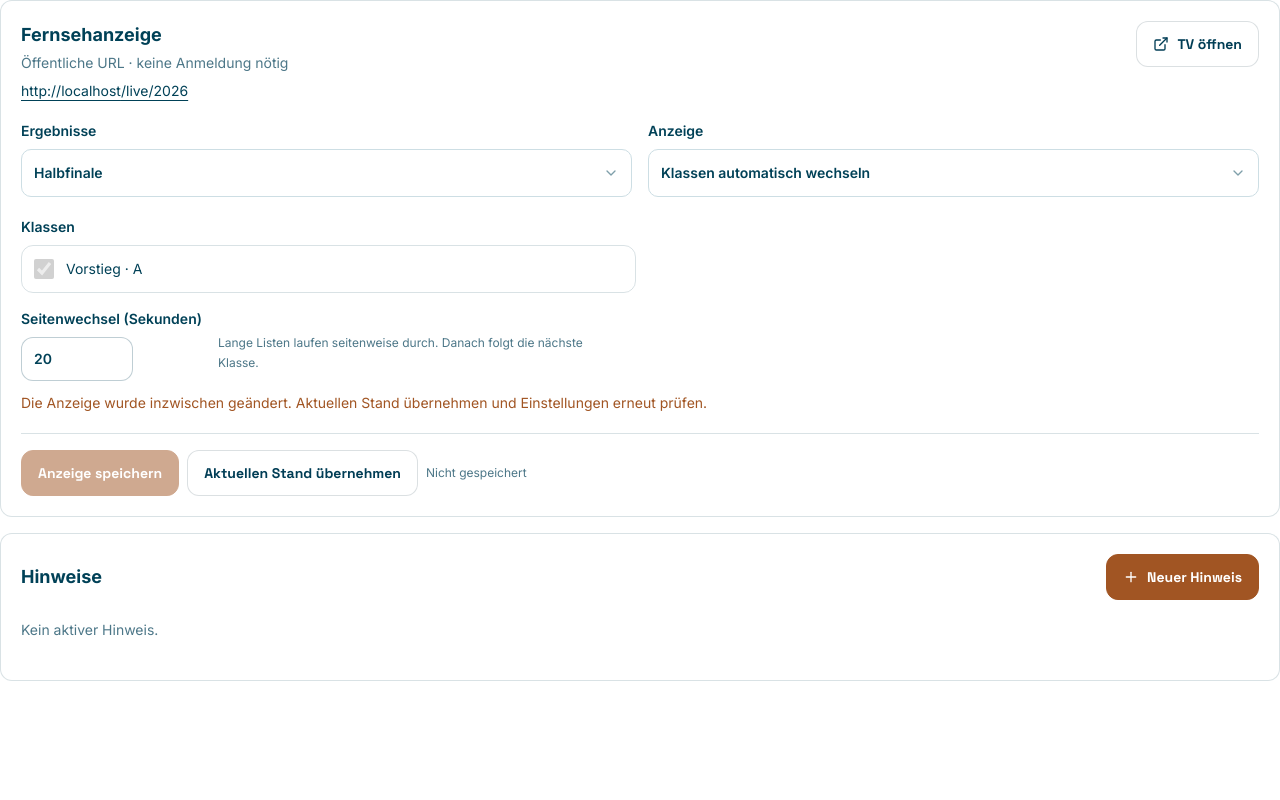
display and notices › retains edited settings during polling, detects a changed saved configuration and lets it be adopted
Earlier steps of the test are not shown.
Later steps or results of the test are not shown.
Expected: the number field labelled "Seitenwechsel (Sekunden)" holds "20", top-left (21, 337), bottom-right (133, 381)
Expected: the button "Anzeige speichern" is disabled, top-left (21, 450), bottom-right (179, 496)
Click the button "Aktuellen Stand übernehmen" at (303, 473), box top-left (187, 450), bottom-right (418, 496)
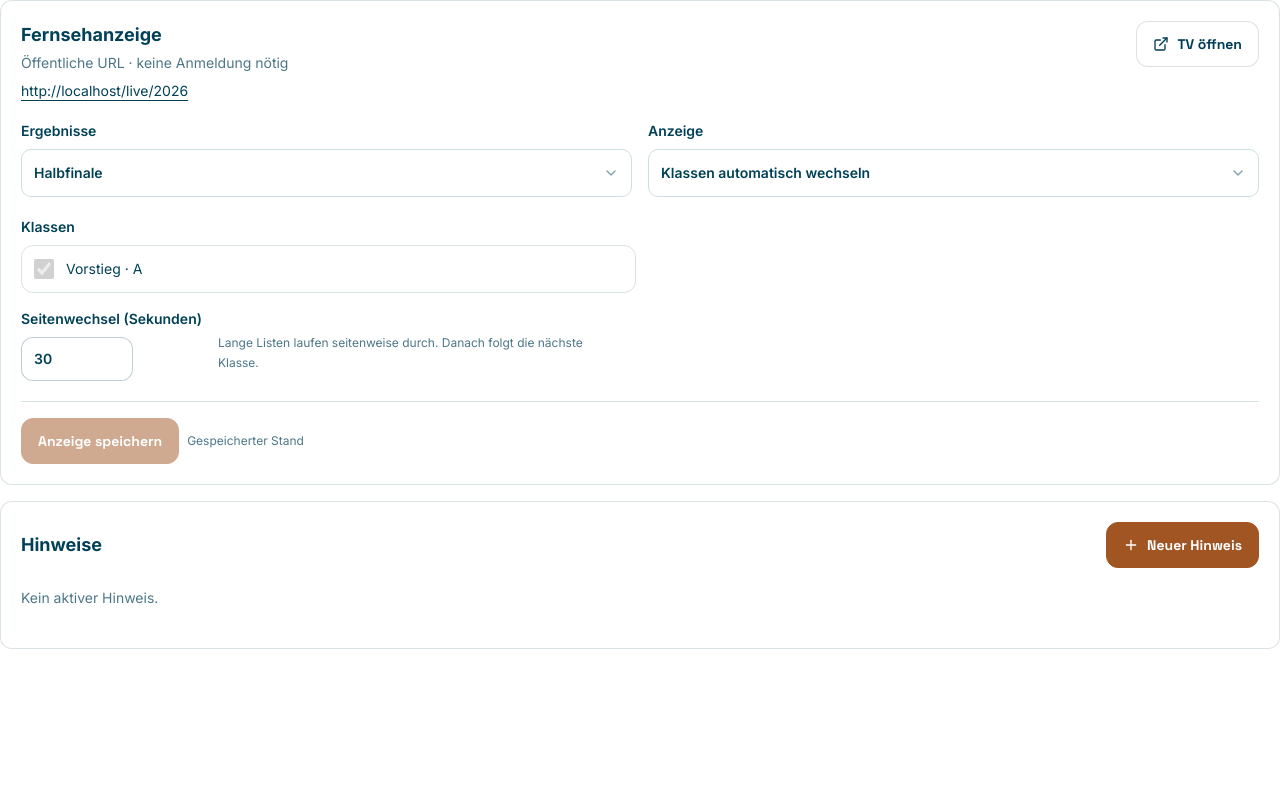
Now the number field labelled "Seitenwechsel (Sekunden)" holds "30", box top-left (21, 337), bottom-right (133, 381)
